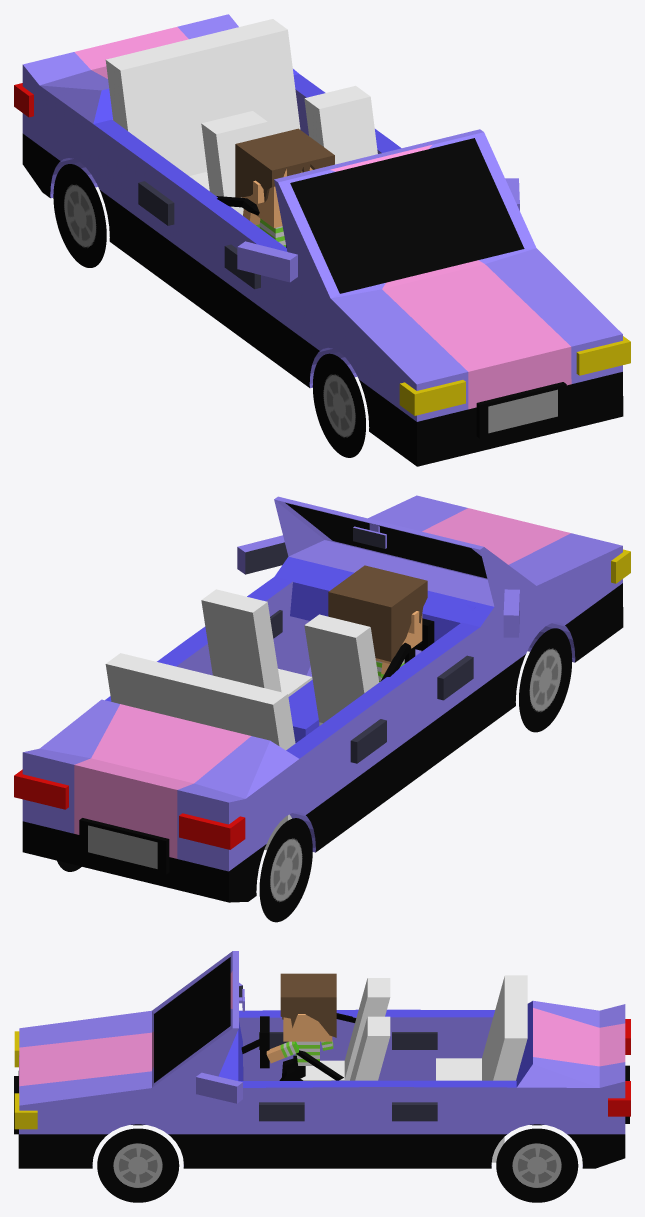
File: Mobil_Atap_11_Ungu_D.fbx
The picture shows the model from 3 angles, top to bottom: view 1: azimuth 30°, elevation 25°; view 2: azimuth 150°, elevation 25°; view 3: azimuth 270°, elevation 25°; orthographic projection. The views are drawn at different scales.
Parts seen in each view (by area): view 1: Mobil1.006; view 2: Mobil1.006; view 3: Mobil1.006.
Boxes of the visible parts, x1=… form: Mobil1.006: x1=14, y1=14, x2=630, y2=466; Mobil1.006: x1=14, y1=495, x2=630, y2=922; Mobil1.006: x1=14, y1=951, x2=630, y2=1202.
Bounding box in the file's own units: 547 × 421 × 1348.
Materials: 9 (5 with a texture image).
